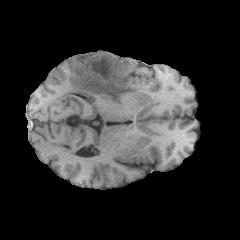glioma: (69, 52, 137, 105)
